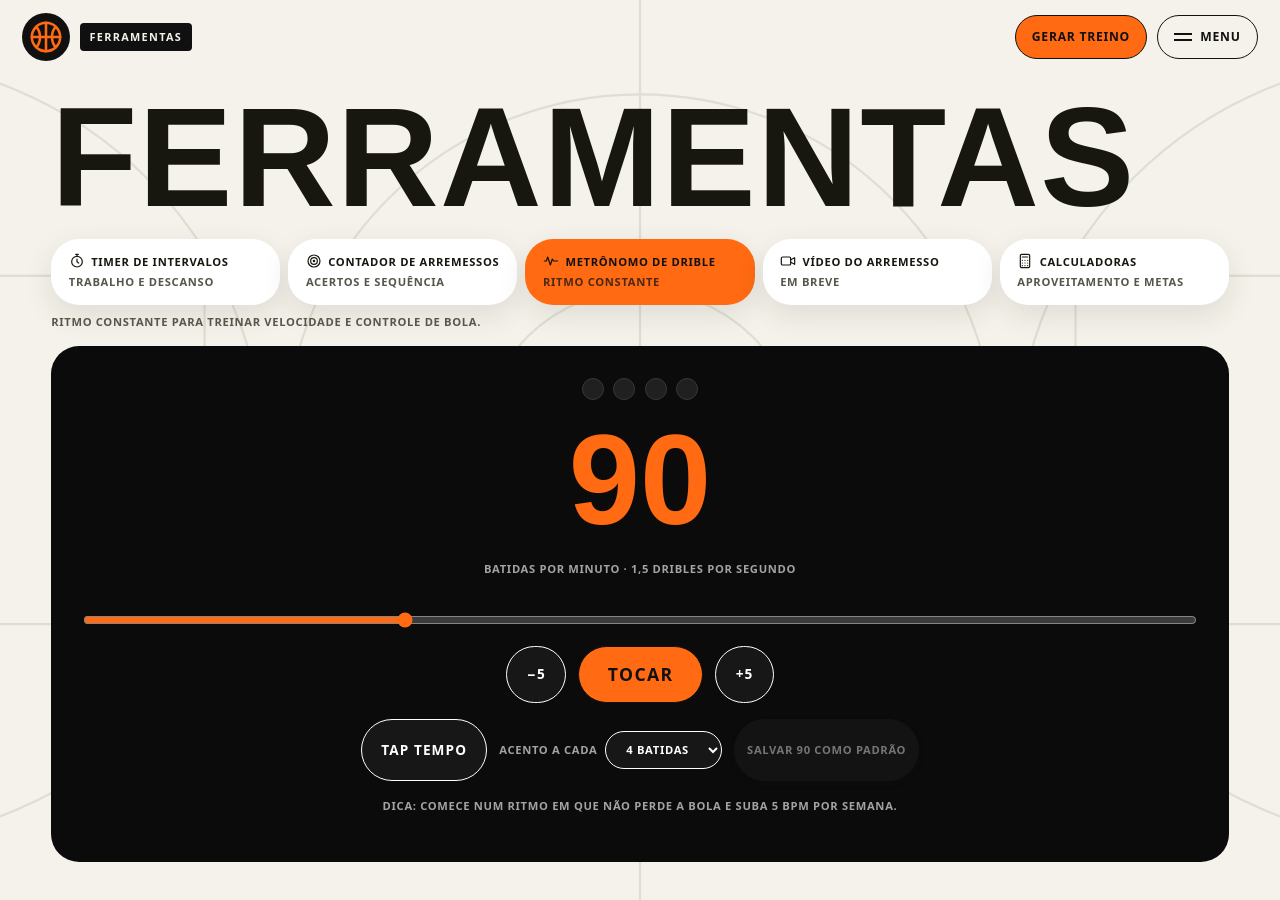
Test: Metrônomo de drible › salva o ritmo como padrão nas configurações
Expected: the button "Salvar 90 como padrão" is disabled, [734,719,919,781]
What coordinates should you click on to do the following:
click the button "+5"
I would click on:
 (744, 674)
Its box is [715,646,774,703].
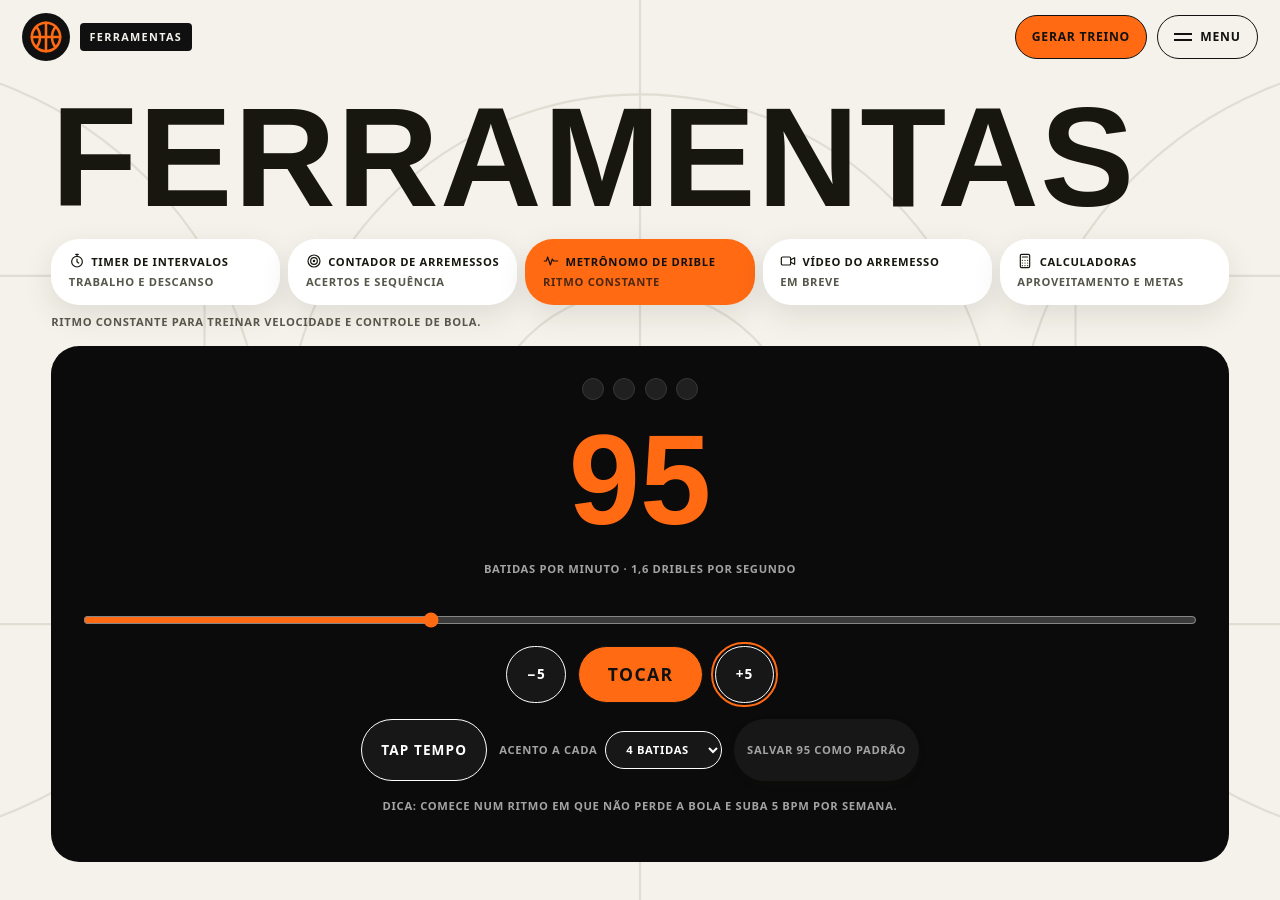
What coordinates should you click on to do the following:
click the button "Salvar 95 como padrão"
I would click on:
 (827, 750)
Its box is [734,719,919,781].
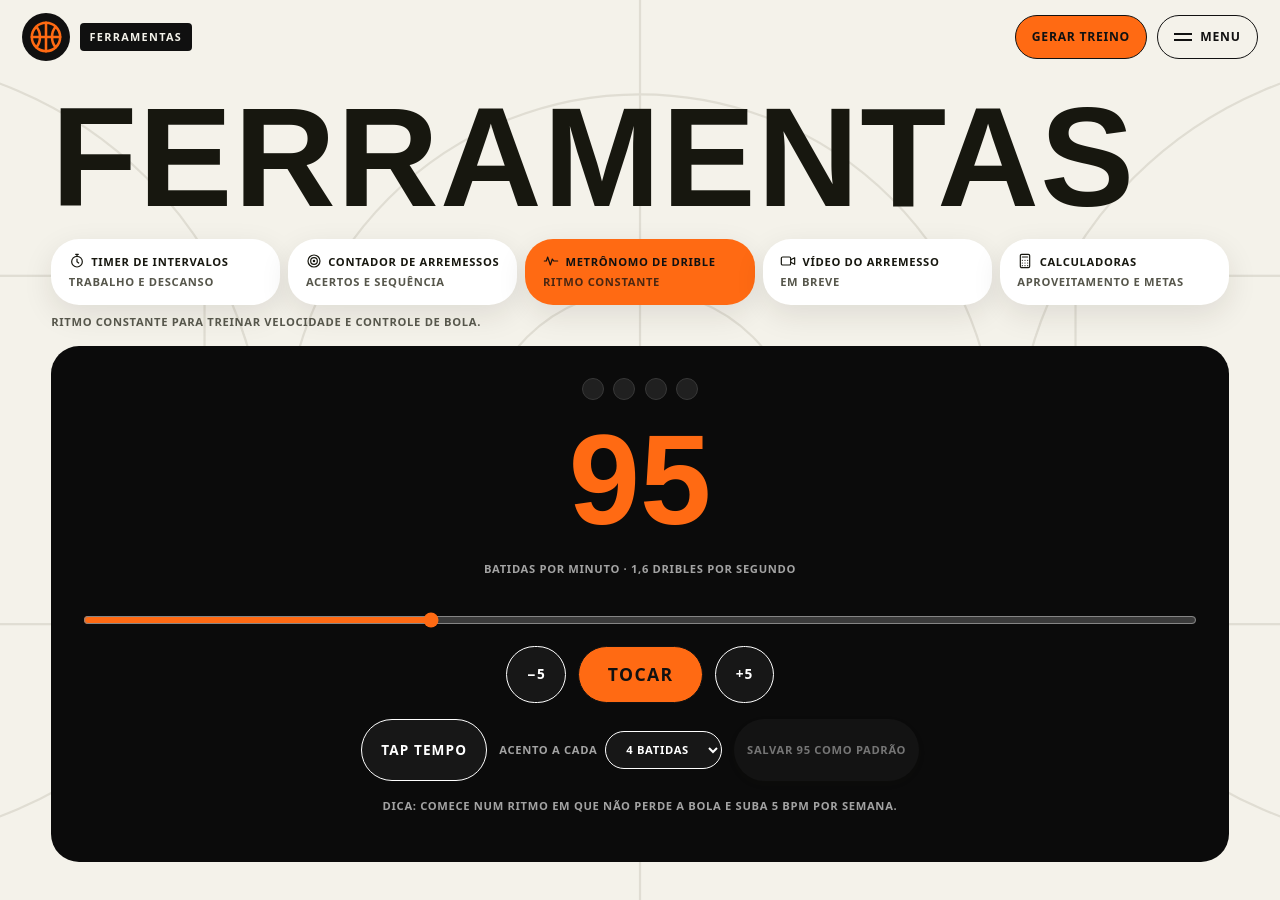
Expected: the button "Salvar 95 como padrão" is disabled, [734,719,919,781]
